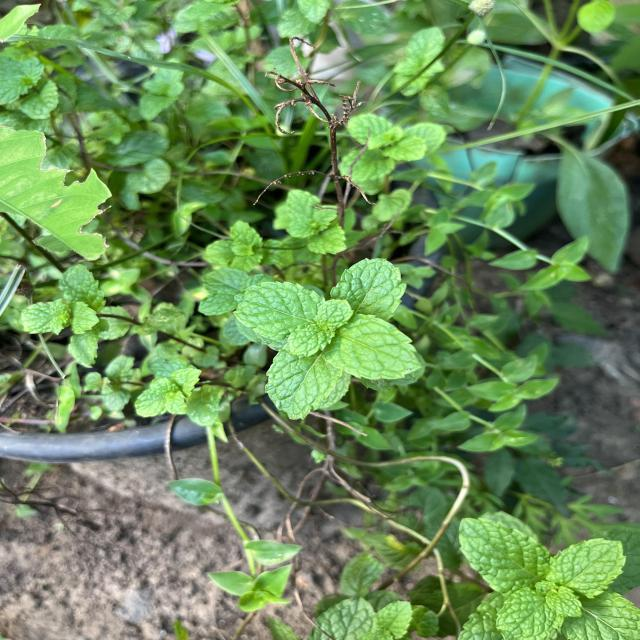Mentha spicata: (321, 313, 424, 381), (264, 346, 344, 421), (232, 280, 325, 340), (330, 256, 408, 321)
